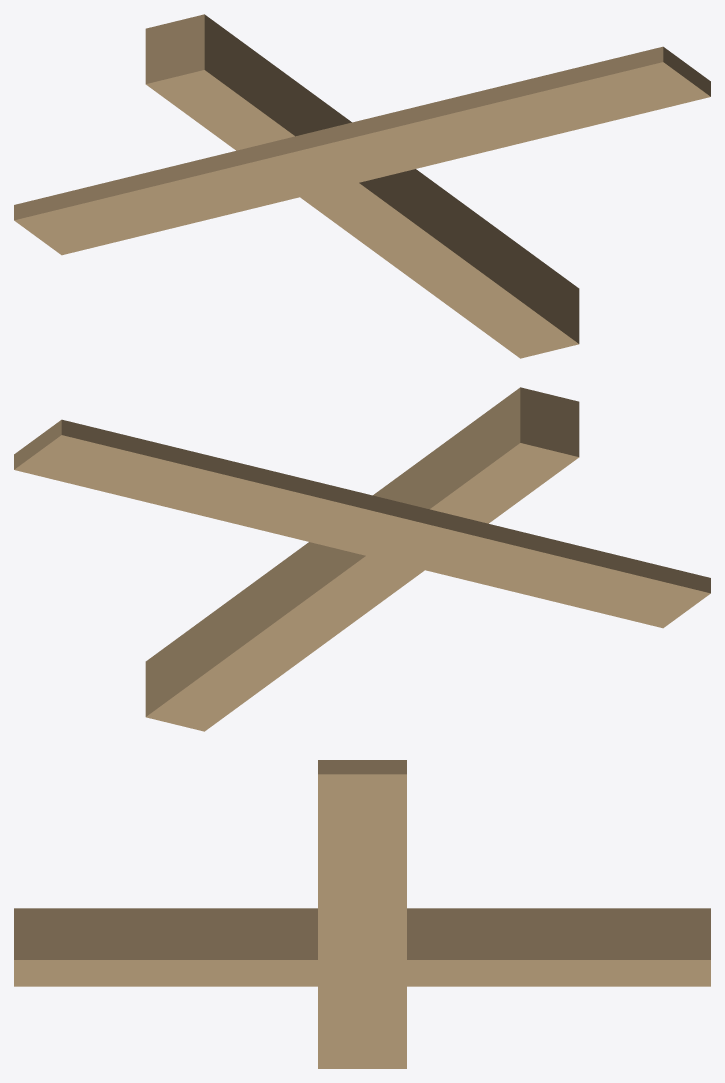
The model's file is wooden_pallet_cc0.gltf.
The picture shows the model from 3 angles, top to bottom: view 1: azimuth 30°, elevation 25°; view 2: azimuth 150°, elevation 25°; view 3: azimuth 270°, elevation 25°; orthographic projection. The views are drawn at different scales.
Visible parts, largest first — view 1: wooden_pallet; view 2: wooden_pallet; view 3: wooden_pallet.
Boxes of the visible parts, box(x1,y1,x2,y2) form: wooden_pallet: box(14, 14, 710, 358); wooden_pallet: box(14, 387, 710, 731); wooden_pallet: box(14, 760, 710, 1068).
Bounding box in the file's own units: 1.1 × 0.115 × 1.1.
